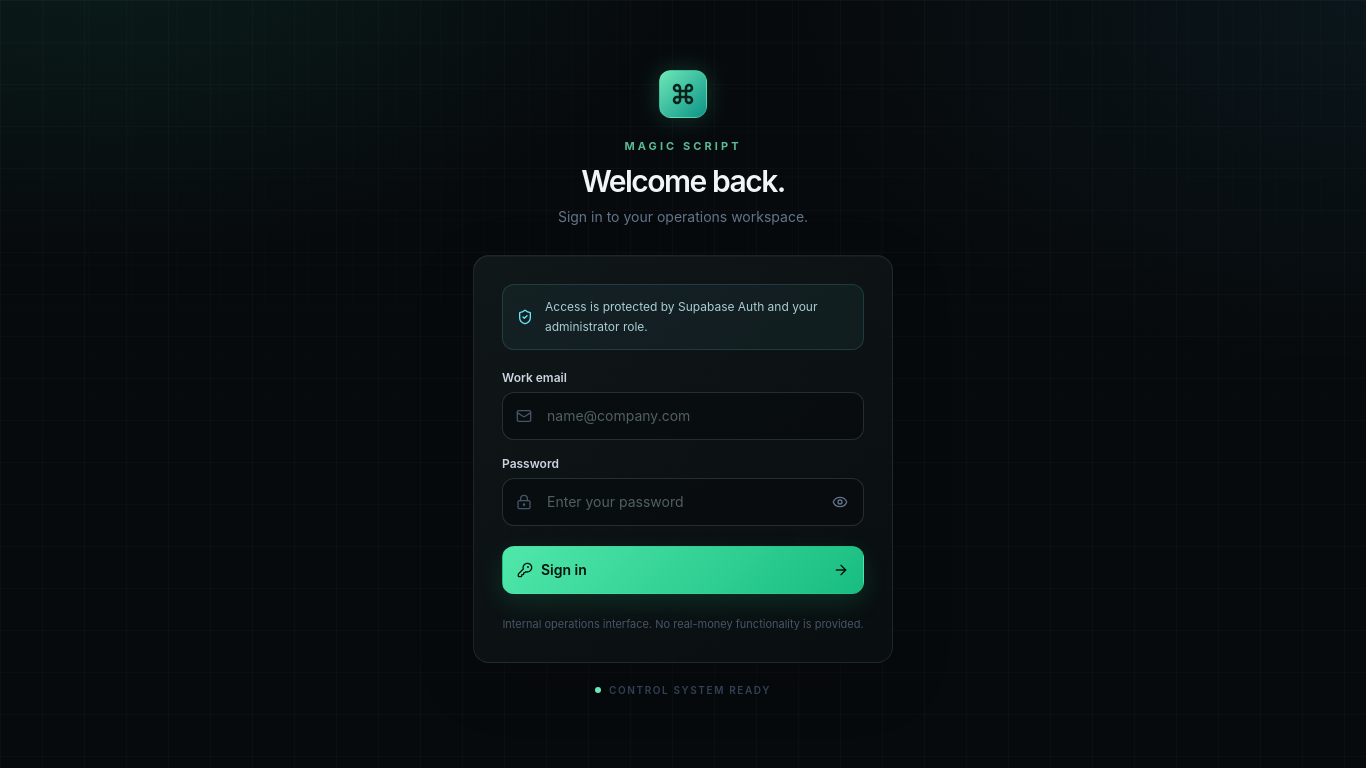
Test case: Supabase Auth sign-in screen › rejects an empty email with a friendly message
Step 1. Click the button with aria-label "login" → (564, 569), box [502,546,864,594]
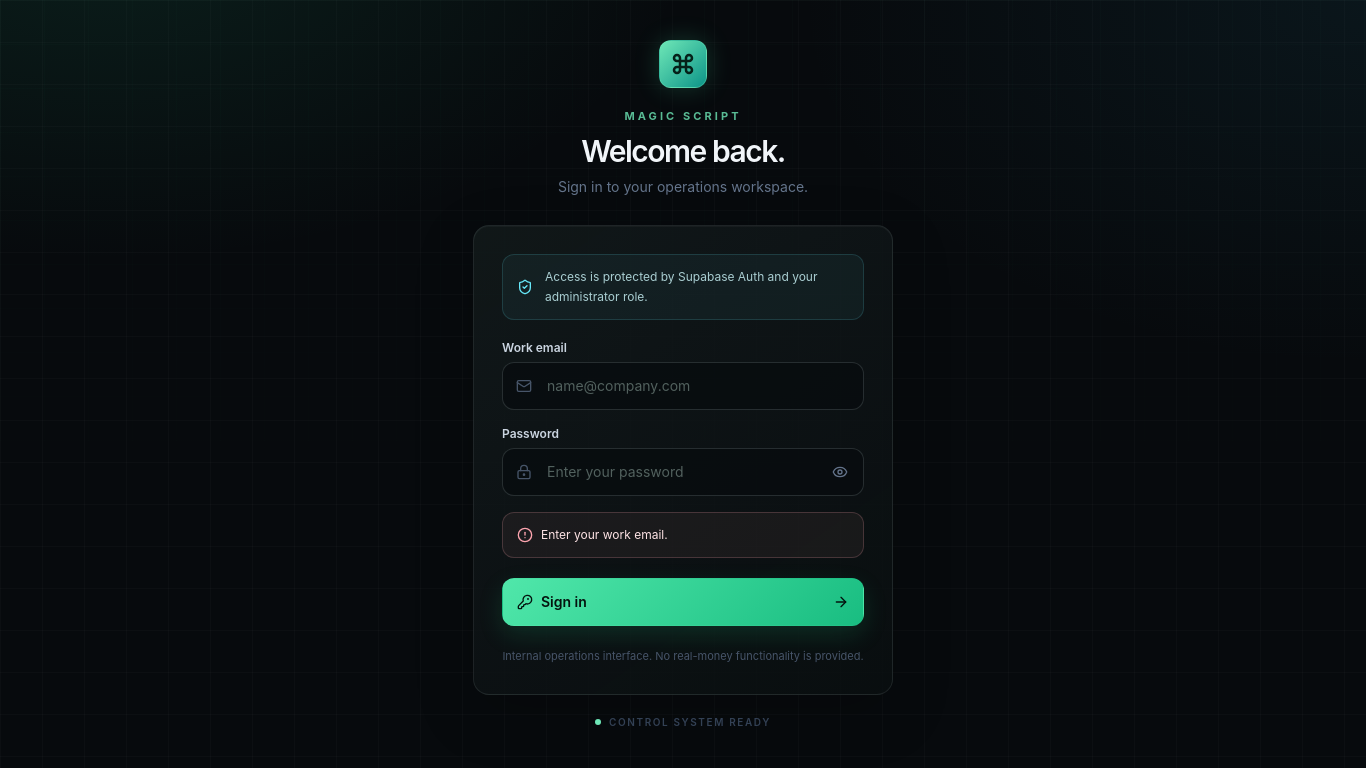
Check: the message reads "Enter your work email.", box [541,526,668,542]
